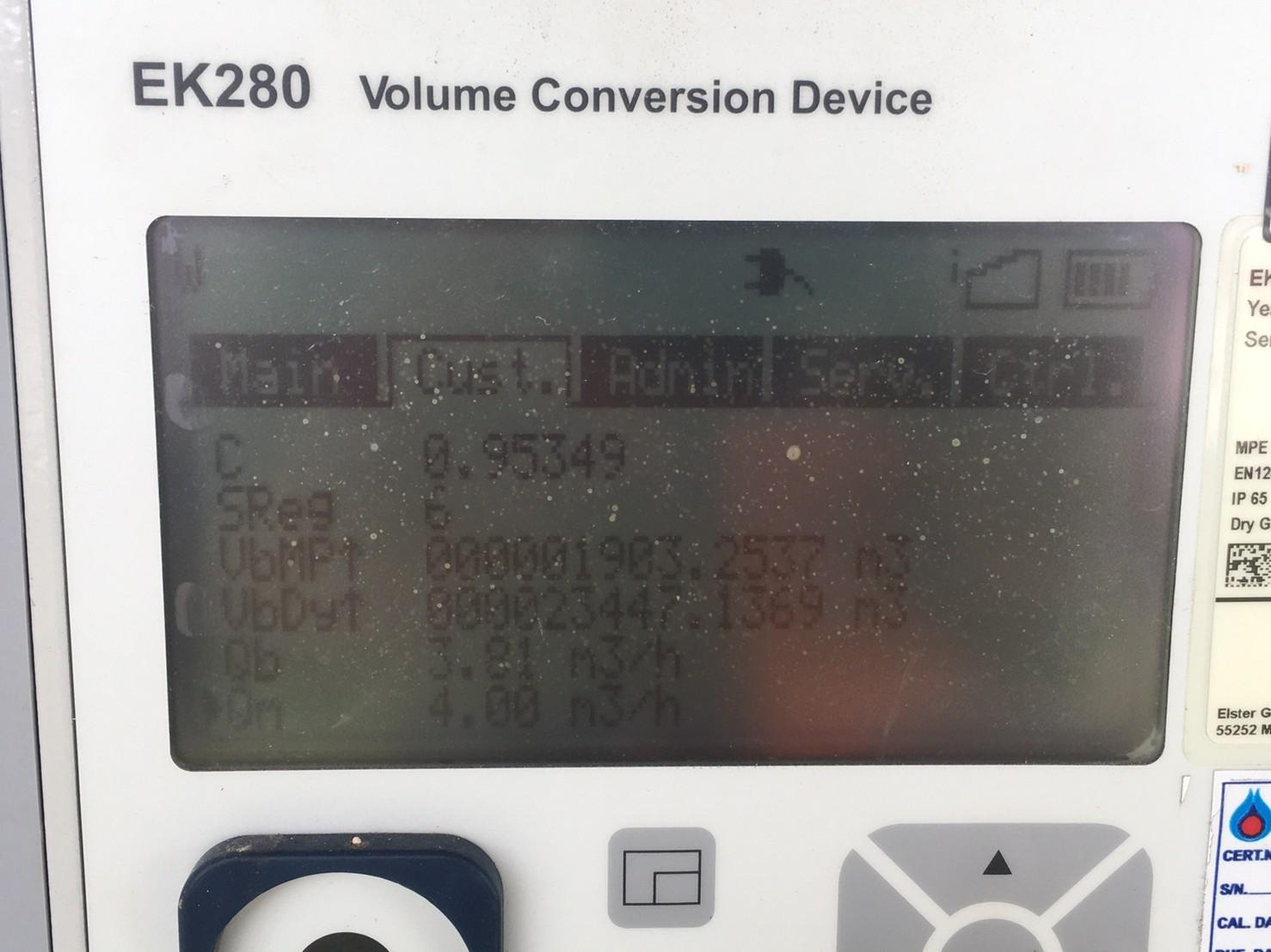digital_screen: (150, 219, 1200, 766)
